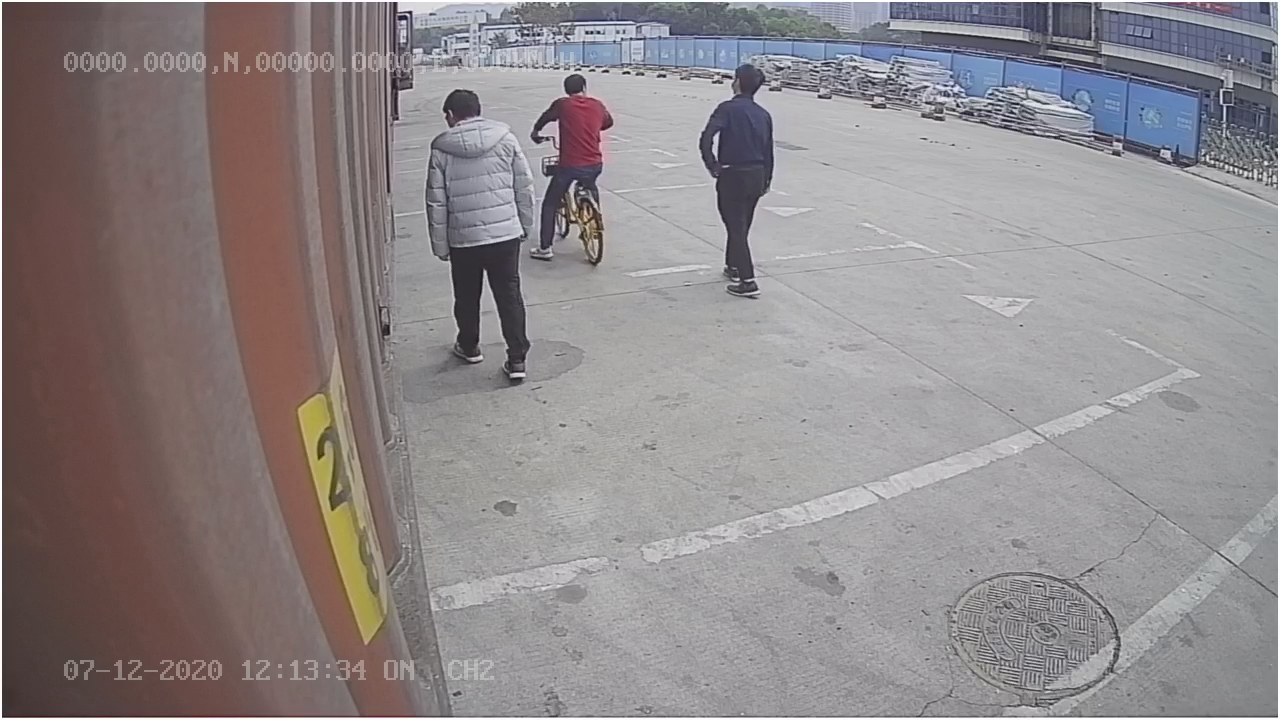person: (424, 82, 533, 389), (693, 61, 786, 301)
